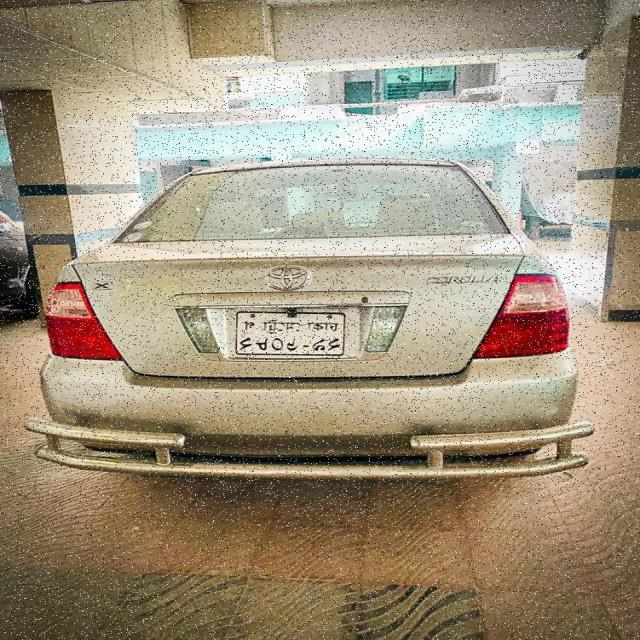numberplate: (235, 308, 348, 358)
